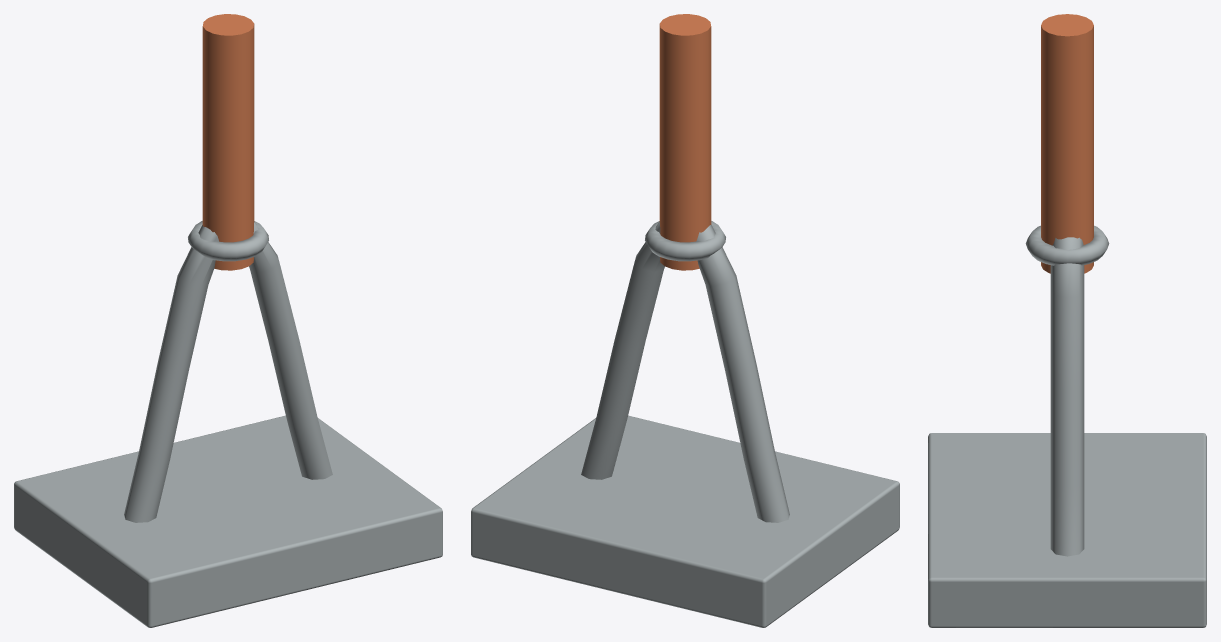
File: extraction-routes-and-objectives-signal-flare-stand-22ecc551__22129.glb
The picture shows the model from 3 angles, left to right: view 1: azimuth 30°, elevation 25°; view 2: azimuth 150°, elevation 25°; view 3: azimuth 270°, elevation 25°; orthographic projection. The views are drawn at different scales.
Parts seen in each view (by area): view 1: signal-flare-stand; view 2: signal-flare-stand; view 3: signal-flare-stand.
Part boxes in pixels (x1=…): signal-flare-stand: x1=14, y1=14, x2=442, y2=627; signal-flare-stand: x1=471, y1=14, x2=899, y2=627; signal-flare-stand: x1=928, y1=14, x2=1206, y2=627.
Bounding box in the file's own units: 0.25 × 0.42 × 0.2.
